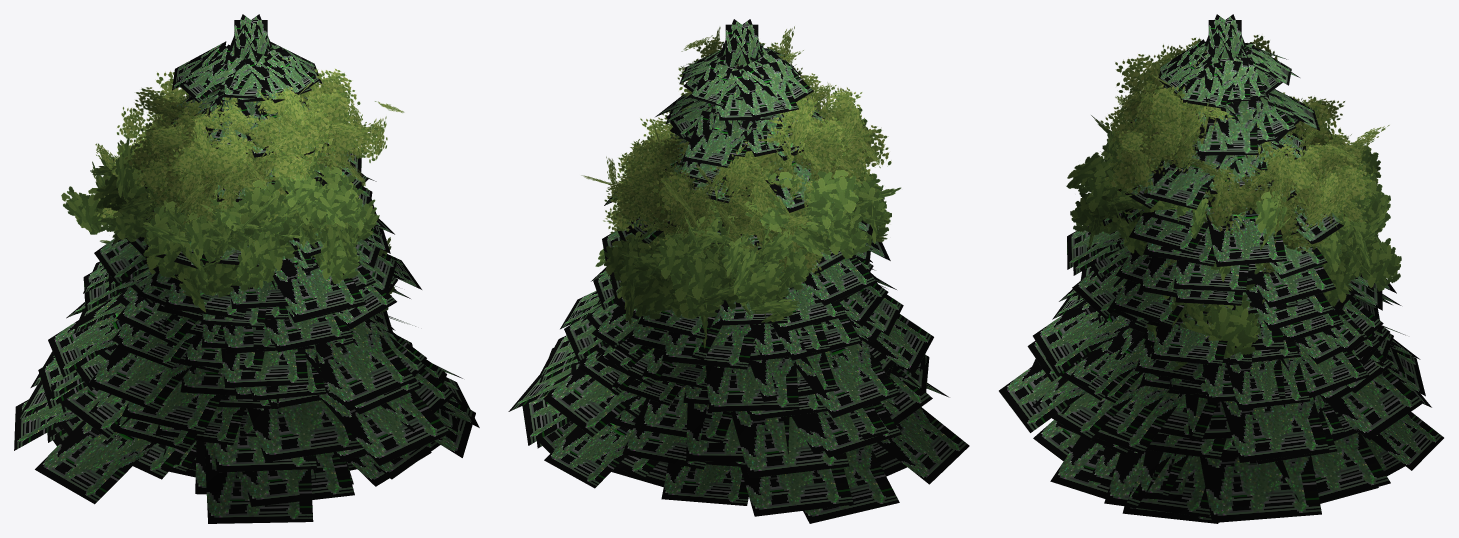
The model's file is trees.glb.
3 renders of one model, left to right at view 1: azimuth 30°, elevation 25°; view 2: azimuth 150°, elevation 25°; view 3: azimuth 270°, elevation 25°, orthographic.
Visible parts, largest first — view 1: pine-1-leaves, pine-0-leaves, oak-1-leaves, broadleaf-1-leaves, broadleaf-0-leaves, oak-0-leaves; view 2: pine-1-leaves, pine-0-leaves, oak-1-leaves, broadleaf-1-leaves, broadleaf-0-leaves, oak-0-leaves; view 3: pine-1-leaves, pine-0-leaves, broadleaf-1-leaves, oak-1-leaves, broadleaf-0-leaves, oak-0-leaves.
Part boxes in pixels (x1=…): pine-1-leaves: x1=14, y1=14, x2=479, y2=506; pine-0-leaves: x1=47, y1=87, x2=431, y2=523; oak-1-leaves: x1=61, y1=140, x2=379, y2=312; broadleaf-1-leaves: x1=116, y1=54, x2=404, y2=211; broadleaf-0-leaves: x1=95, y1=71, x2=343, y2=229; oak-0-leaves: x1=93, y1=137, x2=394, y2=312; pine-1-leaves: x1=508, y1=19, x2=969, y2=523; pine-0-leaves: x1=537, y1=100, x2=949, y2=505; oak-1-leaves: x1=603, y1=108, x2=891, y2=324; broadleaf-1-leaves: x1=581, y1=26, x2=880, y2=238; broadleaf-0-leaves: x1=604, y1=39, x2=891, y2=275; oak-0-leaves: x1=595, y1=170, x2=901, y2=348; pine-1-leaves: x1=999, y1=14, x2=1443, y2=522; pine-0-leaves: x1=1056, y1=97, x2=1431, y2=523; broadleaf-1-leaves: x1=1100, y1=35, x2=1367, y2=276; oak-1-leaves: x1=1066, y1=115, x2=1401, y2=315; broadleaf-0-leaves: x1=1105, y1=44, x2=1389, y2=270; oak-0-leaves: x1=1087, y1=130, x2=1359, y2=370.
Bounding box in the file's own units: 9.98 × 9.55 × 9.44.
Materials: 4 (4 with a texture image).
